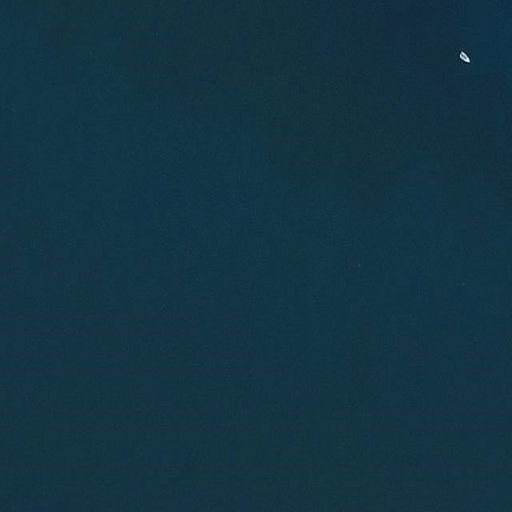ship: (456, 48, 475, 66)
